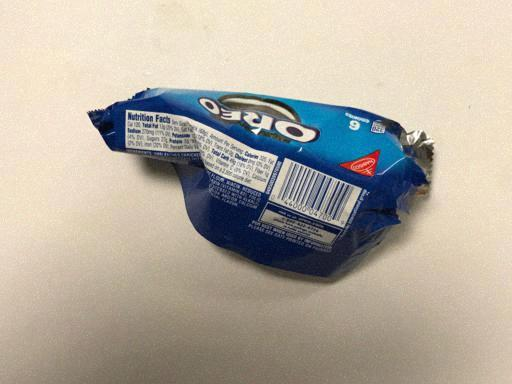trash: (88, 84, 433, 285)
